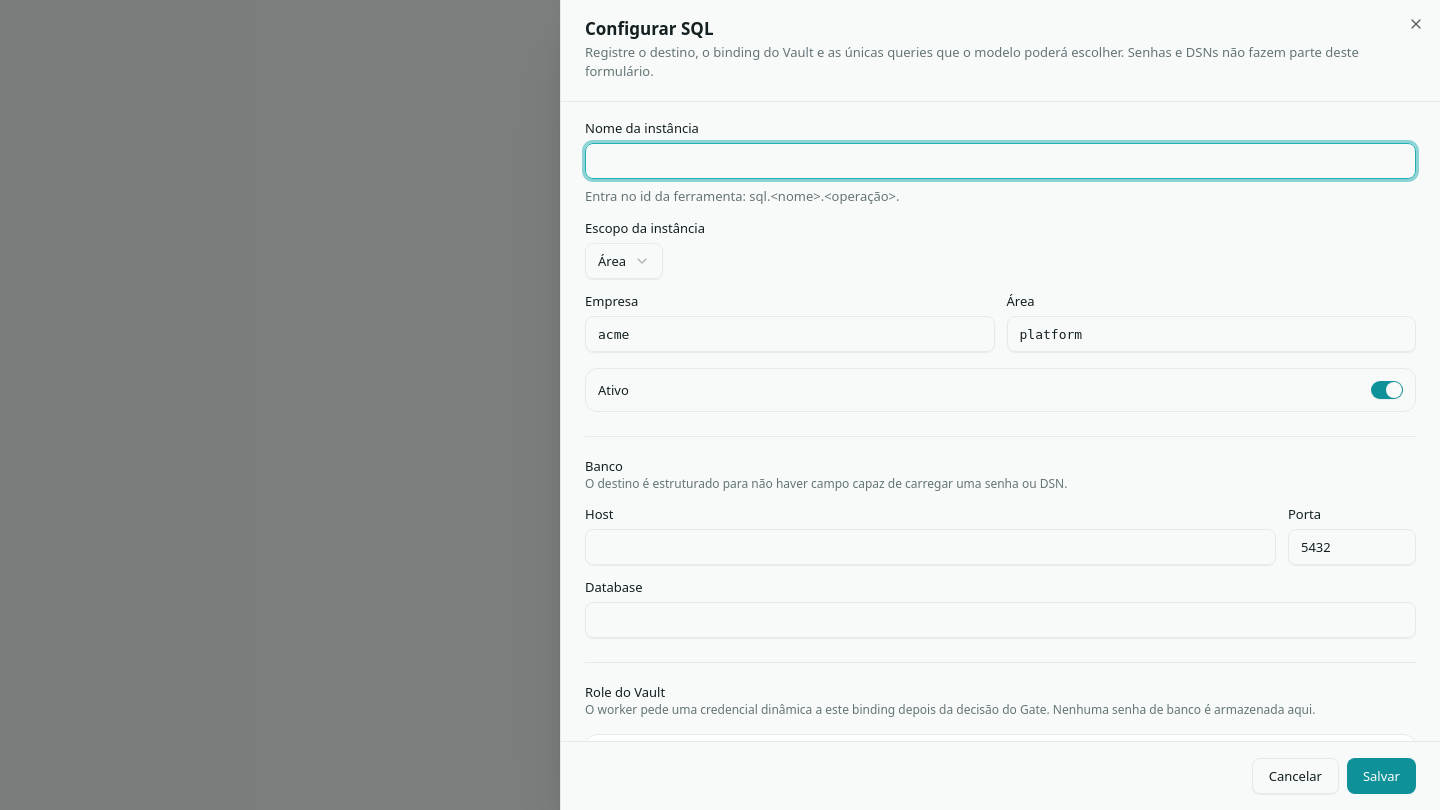
Test: SQL connector instance form › explains binding failures and translates validation keys
Click the button "Salvar": click(1381, 776) left=1347, top=758, right=1416, bottom=794
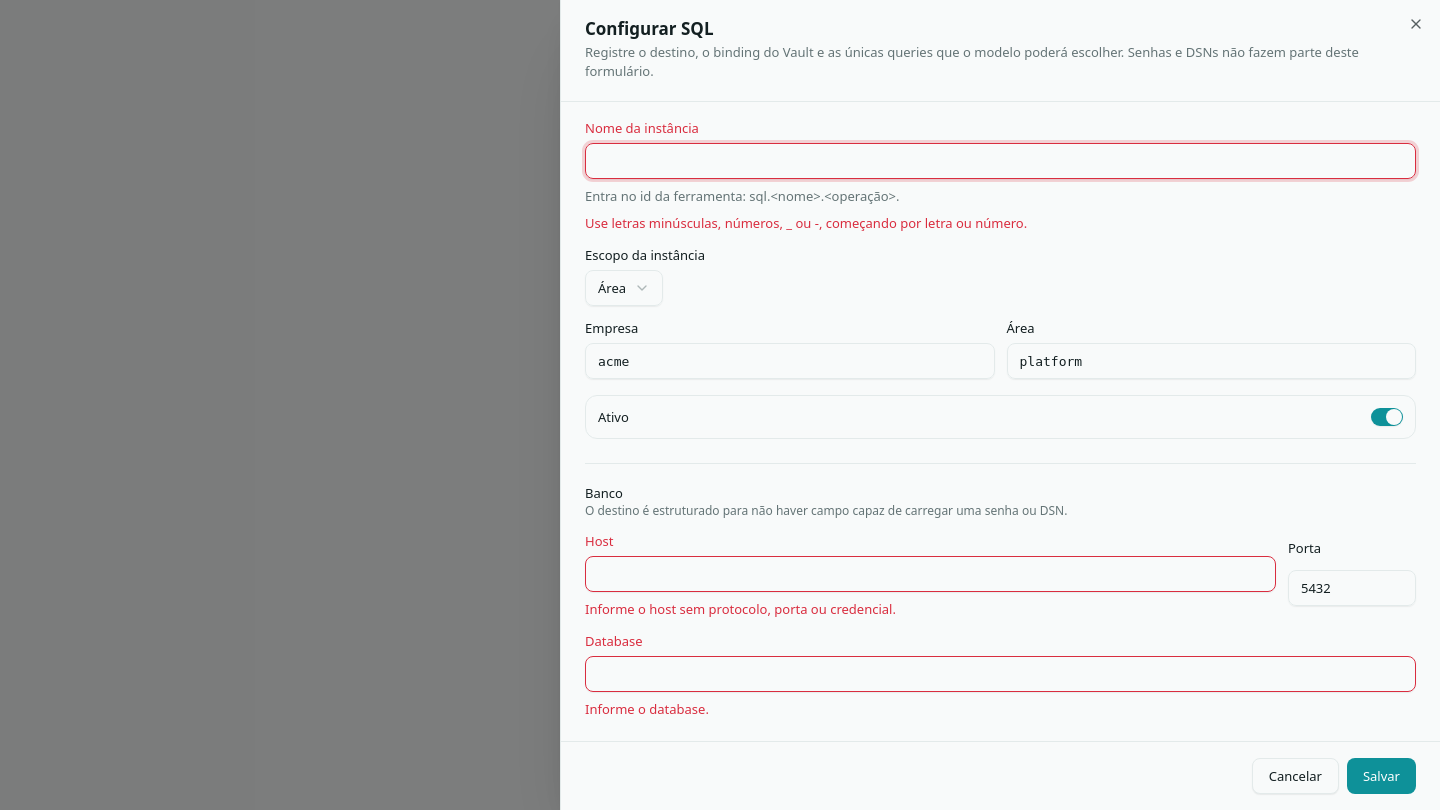
Now the text "Informe o host sem protocolo, porta ou credencial." is shown, box left=585, top=600, right=896, bottom=618
